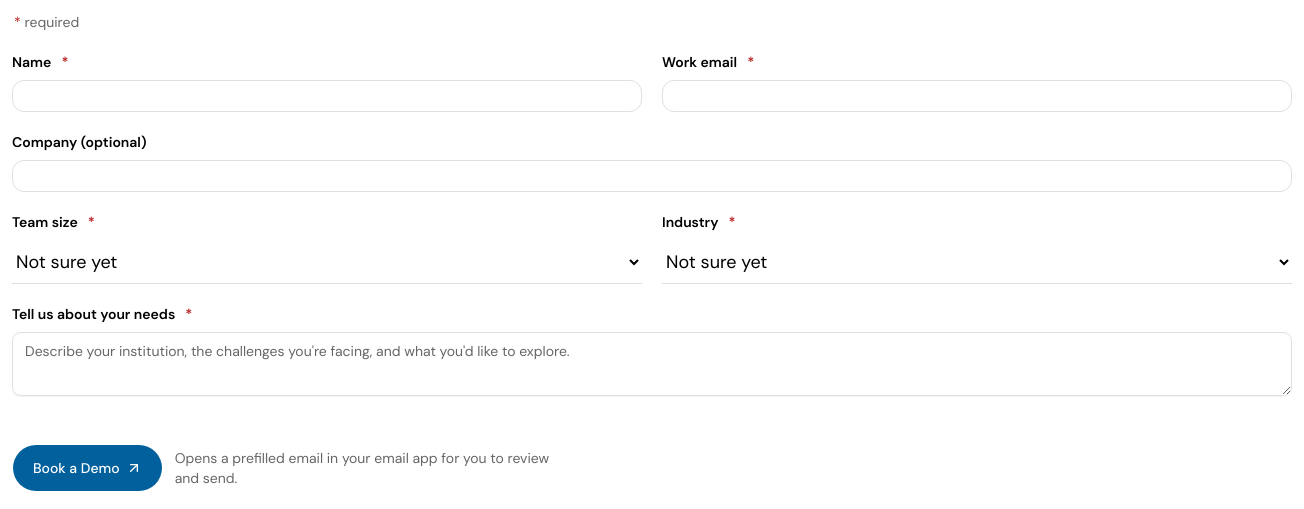
Scenario: ContactForm › opens a draft and shows an honest status panel instead of claiming it was sent
Type "Asha Rao" into the field labelled "Name *" at (327,96), box [12,80,642,112]
Type "asha@example.com" into the field labelled "Work email *" at (977,96), box [662,80,1292,112]
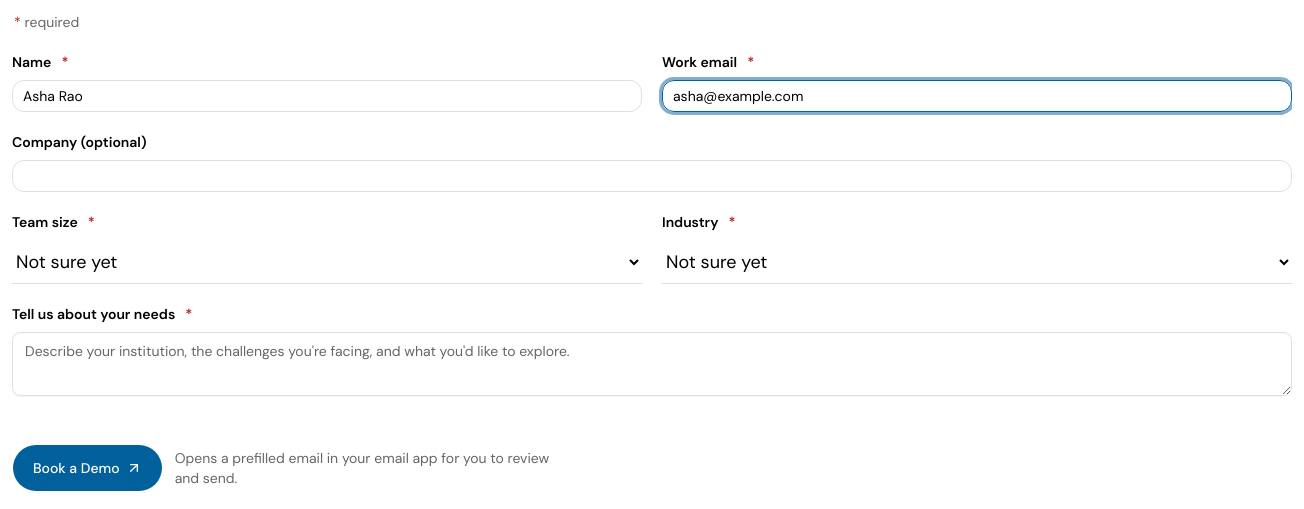
Type "Northstar" into the field labelled "Company (optional)" at (652,176), box [12,160,1292,192]
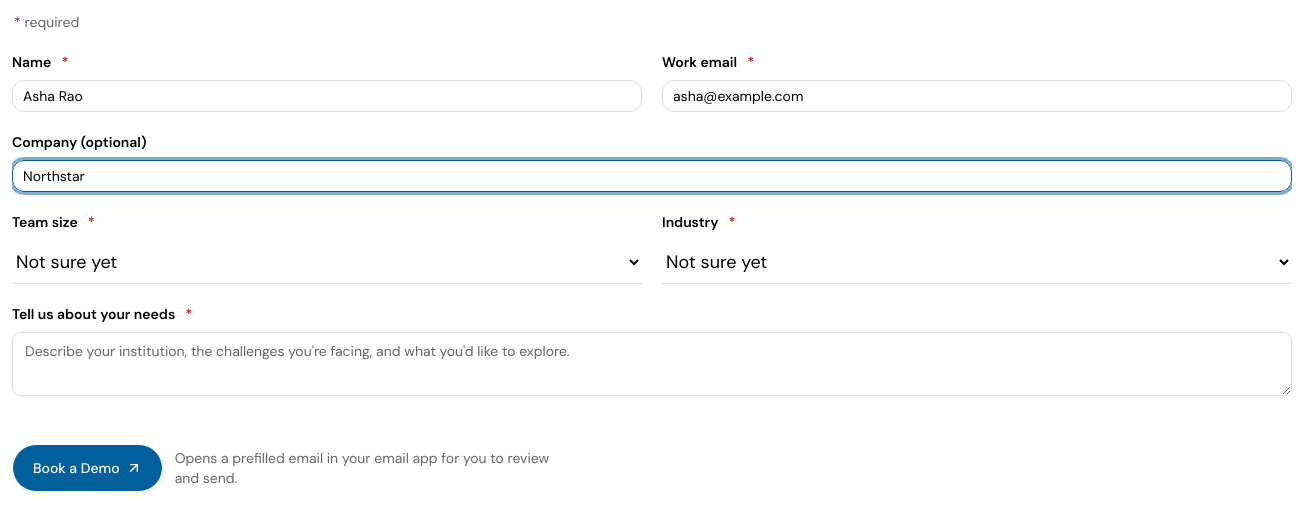
Select "11–50 people" in the dropdown labelled "Team size *" at (327,262), box [12,240,642,284]
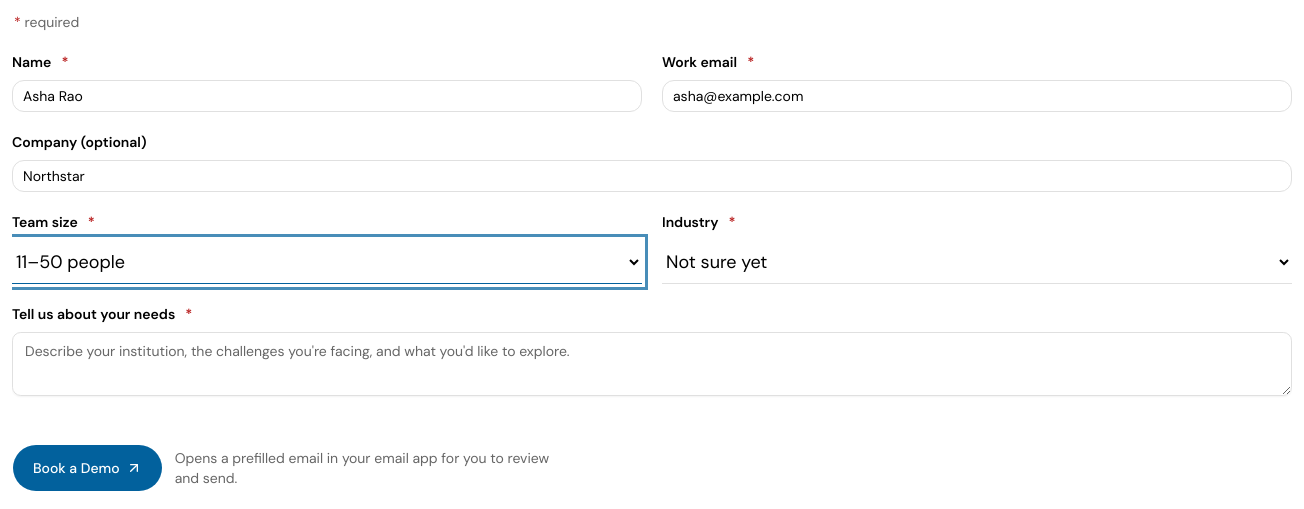
Select "Mortgage lending" in the dropdown labelled "Industry *" at (977,262), box [662,240,1292,284]
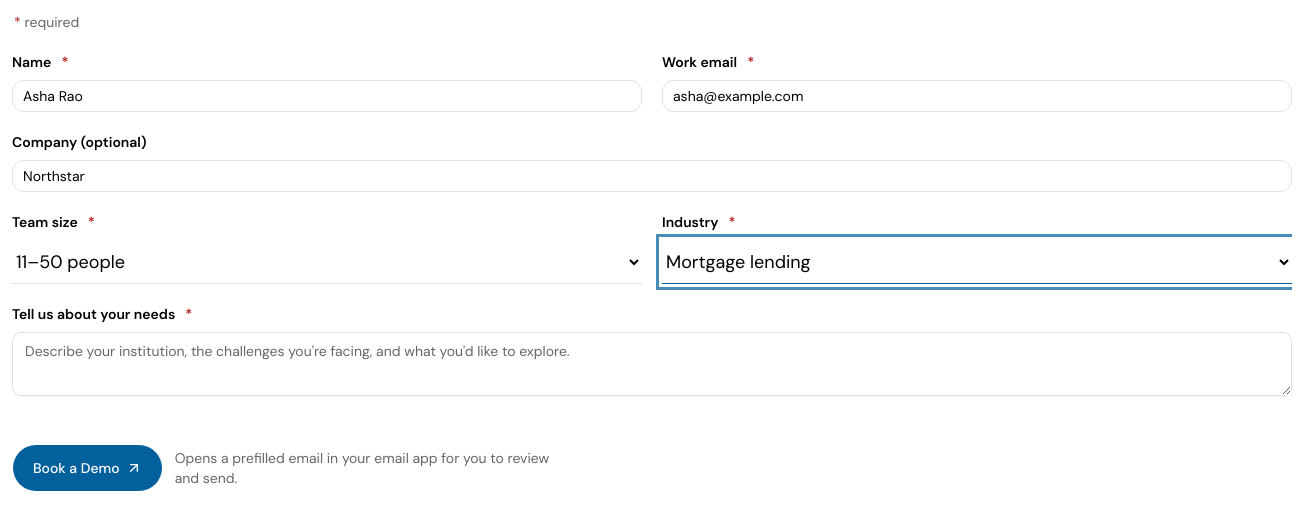
Type "We want to explore AI for mortgage document processing and underwriting assistance." into the text box labelled "Tell us about your needs *" at (652,364), box [12,332,1292,396]
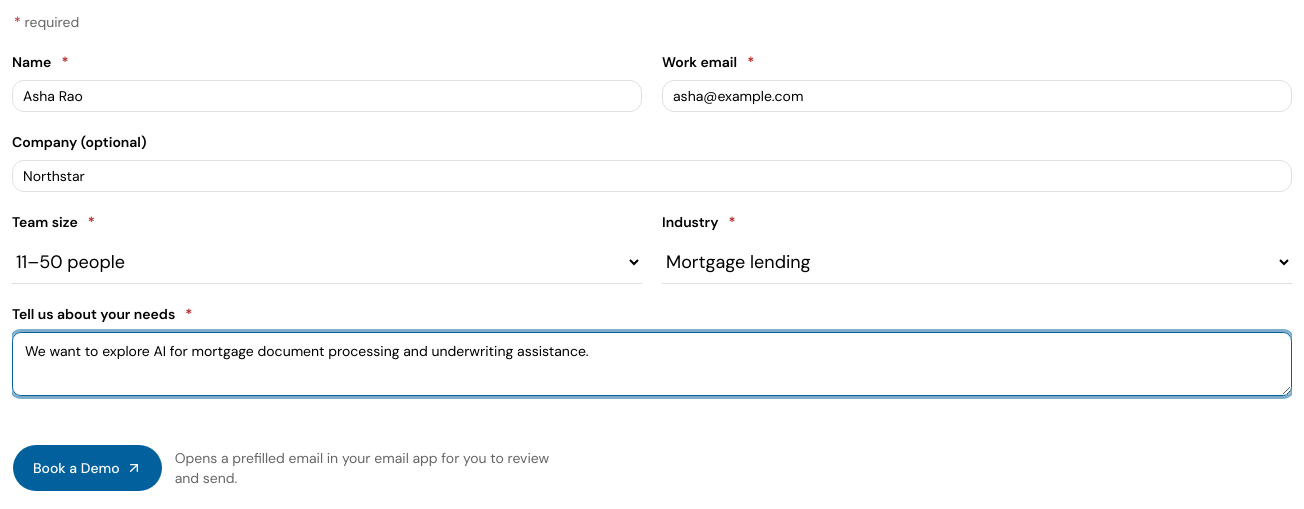
Click the button "Book a Demo" at (87,468), box [12,444,163,492]
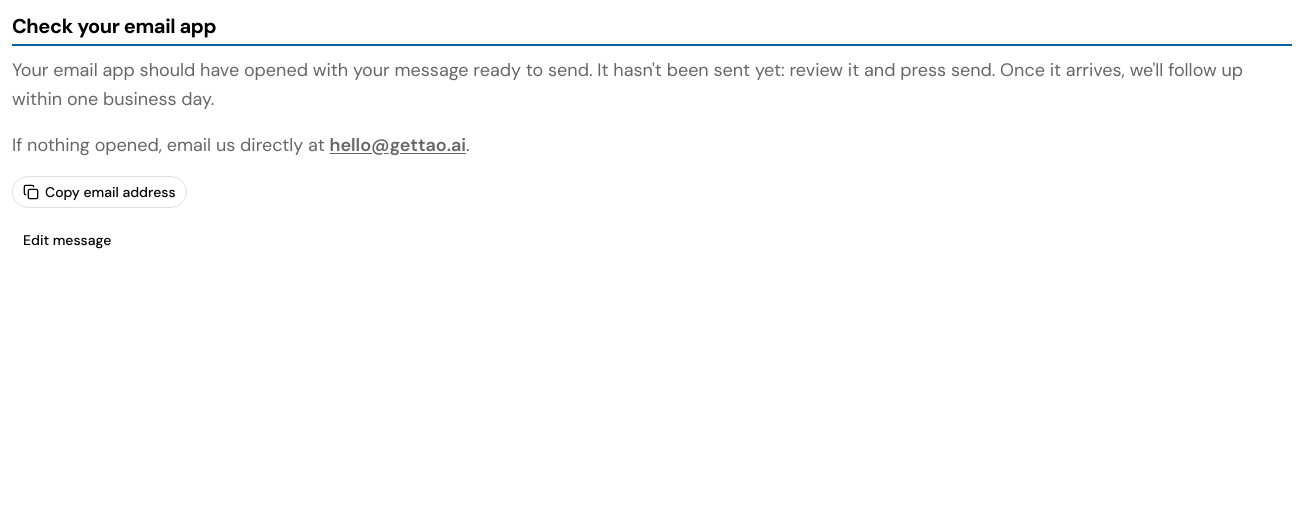
Expected: the message "Check your email app" is shown, [12,12,1292,256]
Expected: the message "Check your email app" shows "should have opened with your message ready to send", [12,58,1243,111]
Expected: the button "Book a Demo" is gone
